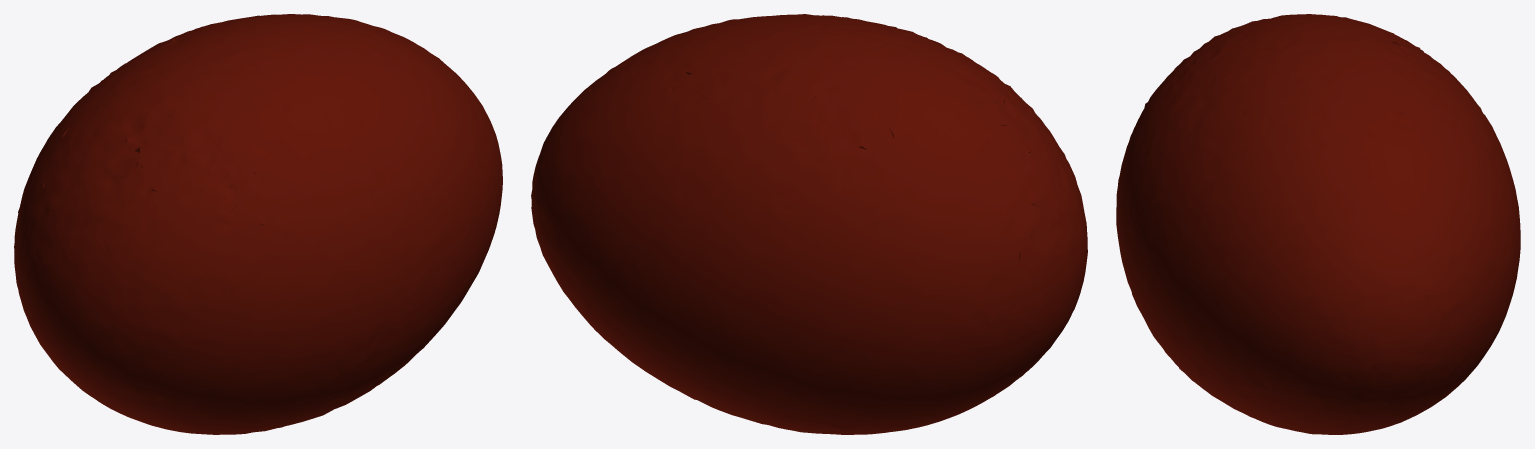
The picture shows the model from 3 angles, left to right: view 1: azimuth 30°, elevation 25°; view 2: azimuth 150°, elevation 25°; view 3: azimuth 270°, elevation 25°; orthographic projection. The views are drawn at different scales.
Bounding box in the file's own units: 1 × 0.7408 × 0.7494.
